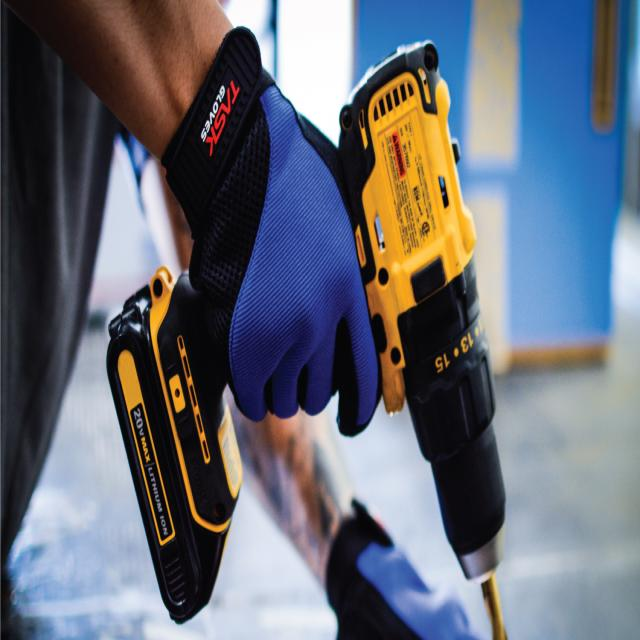gloves: (167, 26, 383, 436)
